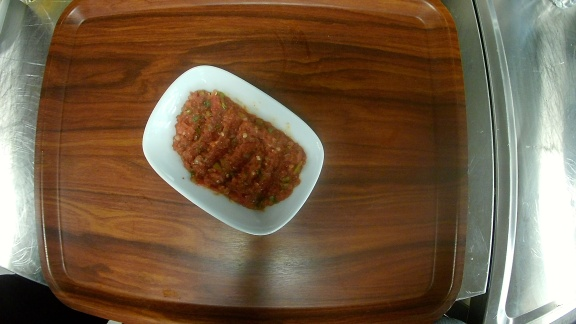acilimeze: (141, 65, 326, 236)
